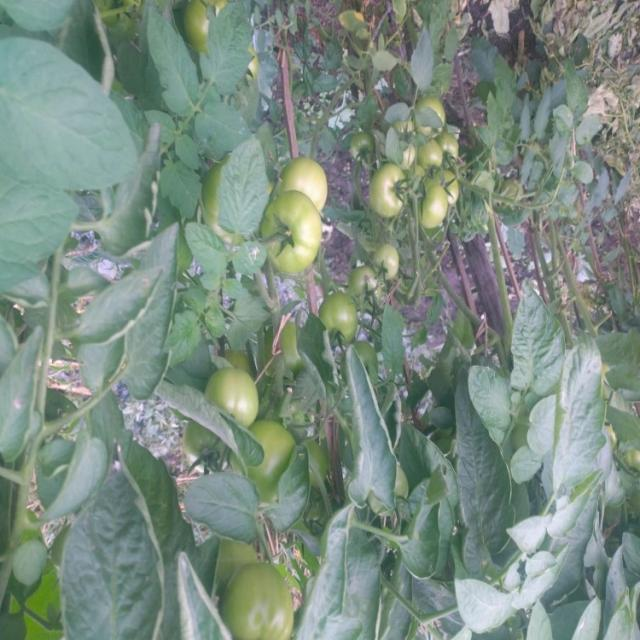tomato: (194, 553, 295, 635), (225, 408, 309, 496), (259, 190, 331, 273), (199, 362, 270, 432), (272, 155, 337, 221), (208, 531, 263, 586), (409, 178, 459, 236), (182, 1, 222, 58), (372, 230, 405, 292), (346, 256, 381, 313), (324, 292, 356, 352), (419, 92, 459, 137), (361, 167, 400, 211), (417, 135, 457, 170)
